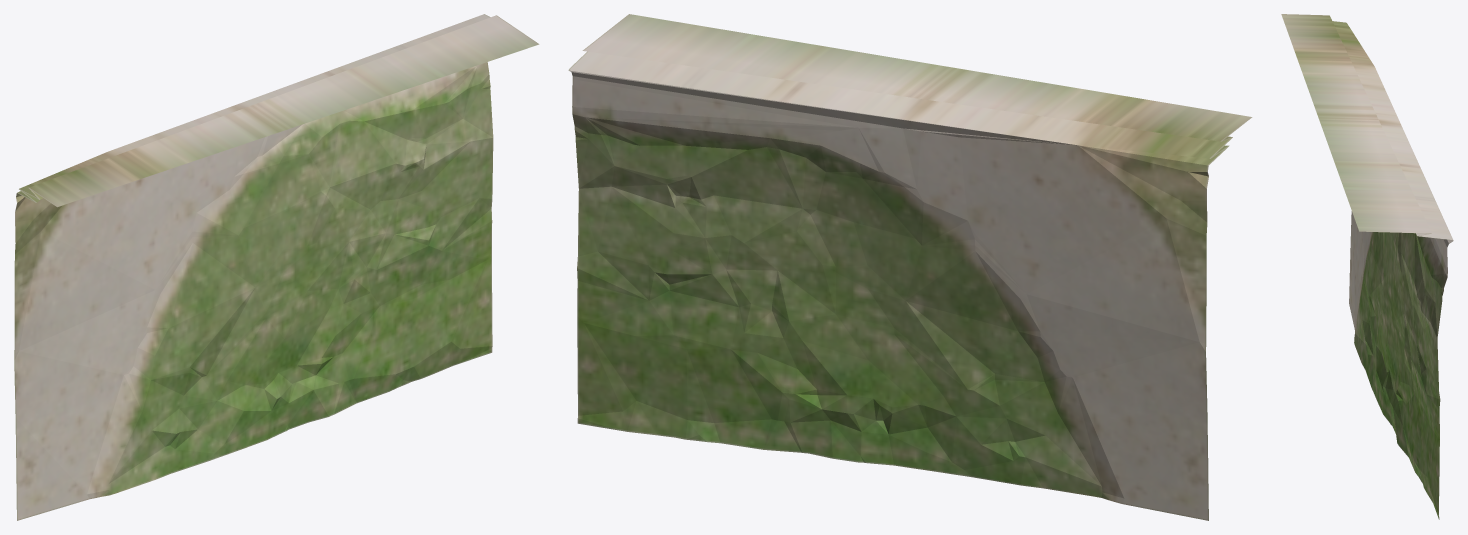
Rendered from map_270_20.obj.
The picture shows the model from 3 angles, left to right: view 1: azimuth 30°, elevation 25°; view 2: azimuth 150°, elevation 25°; view 3: azimuth 270°, elevation 25°; orthographic projection. The views are drawn at different scales.
Visible parts, largest first — view 1: grp1; view 2: grp1; view 3: grp1.
Boxes of the visible parts, box(x1,y1,x2,y2) form: grp1: box(14, 14, 539, 520); grp1: box(568, 14, 1252, 520); grp1: box(1281, 14, 1453, 519).
Bounding box in the file's own units: 10 × 6.2 × 3.35.
Materials: 1 (1 with a texture image).
